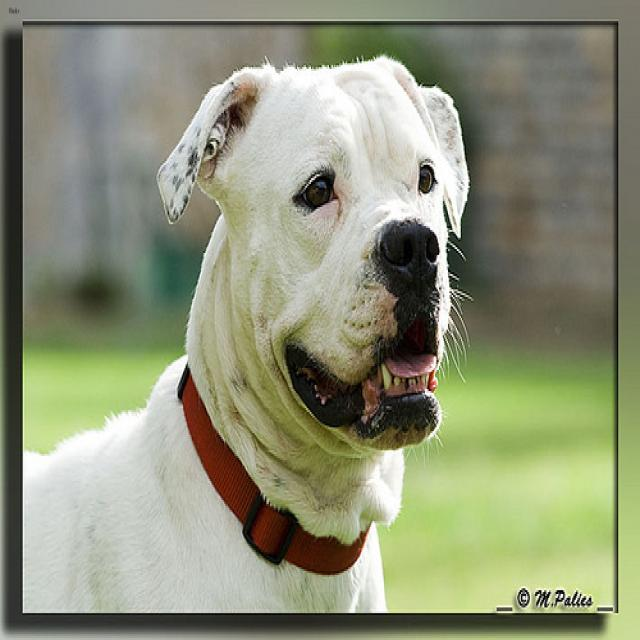dog-american_bulldog: (10, 44, 477, 630)
